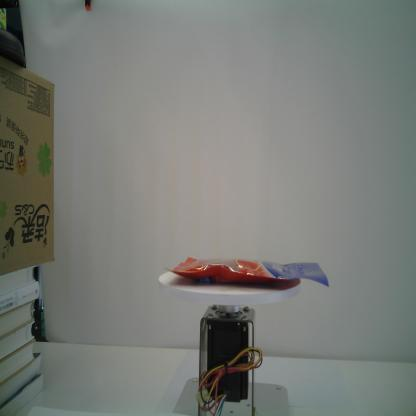Dried Fruit: (162, 255, 331, 290)
